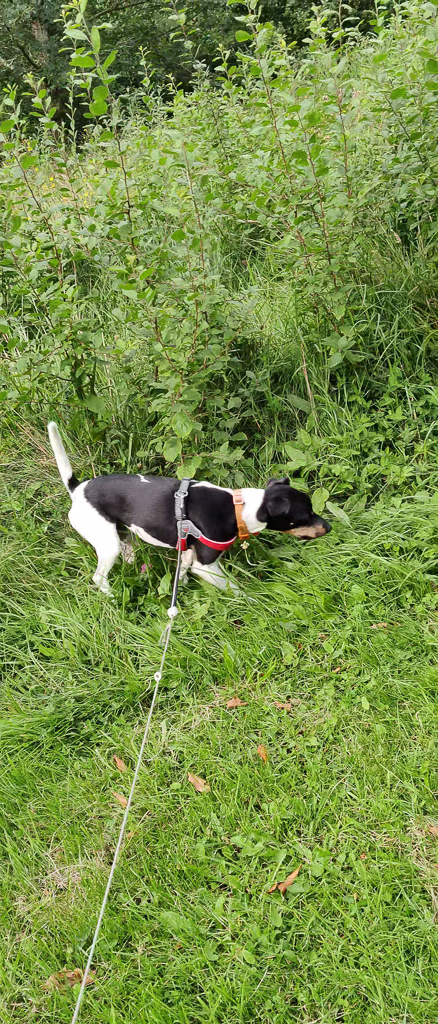Dog: (32, 414, 347, 605)
